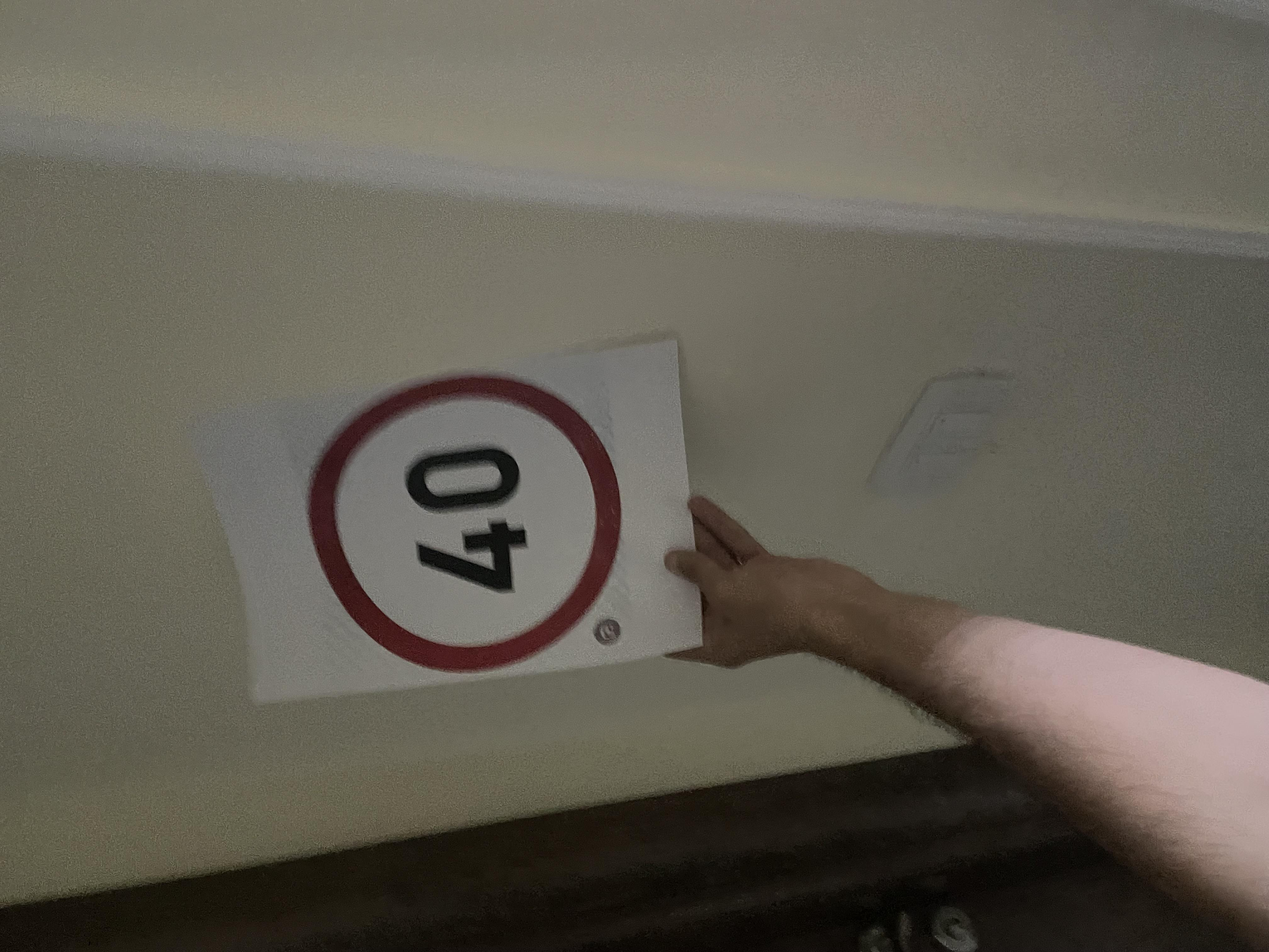40-Speed: (362, 215, 784, 475)
